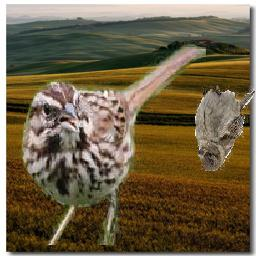Sparrow: (20, 43, 207, 246), (195, 77, 255, 171)
